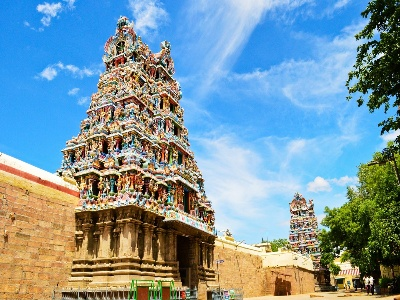gopura: (60, 25, 235, 216)
